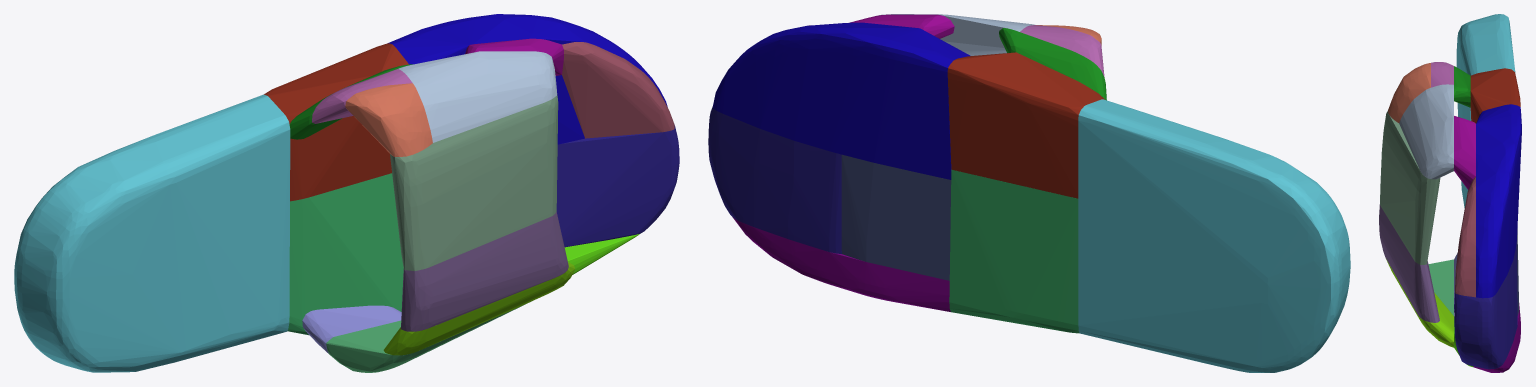
The model's file is coacd_collision.obj.
The picture shows the model from 3 angles, left to right: view 1: azimuth 30°, elevation 25°; view 2: azimuth 150°, elevation 25°; view 3: azimuth 270°, elevation 25°; orthographic projection. The views are drawn at different scales.
Visible parts, largest first — view 1: geometry_2, geometry_0, geometry_10, geometry_18, geometry_1, geometry_15, geometry_6, geometry_13, geometry_5, geometry_9, geometry_4, geometry_3 (+5 smaller); view 2: geometry_2, geometry_5, geometry_10, geometry_15, geometry_18, geometry_16, geometry_11, geometry_8, geometry_6, geometry_7, geometry_14; view 3: geometry_5, geometry_0, geometry_18, geometry_6, geometry_2, geometry_1, geometry_15, geometry_13, geometry_14, geometry_9, geometry_3, geometry_4 (+4 smaller).
Boxes of the visible parts, left/top/right/bottom form: geometry_2: left=14, top=94, right=290, bottom=372; geometry_0: left=390, top=94, right=558, bottom=271; geometry_10: left=288, top=173, right=403, bottom=335; geometry_18: left=556, top=125, right=679, bottom=247; geometry_1: left=401, top=212, right=568, bottom=331; geometry_15: left=264, top=43, right=408, bottom=201; geometry_6: left=398, top=51, right=557, bottom=142; geometry_13: left=562, top=42, right=674, bottom=138; geometry_5: left=387, top=14, right=667, bottom=144; geometry_9: left=345, top=83, right=432, bottom=156; geometry_4: left=383, top=262, right=574, bottom=355; geometry_3: left=326, top=303, right=527, bottom=372; geometry_2: left=1078, top=99, right=1350, bottom=372; geometry_5: left=713, top=22, right=970, bottom=179; geometry_10: left=949, top=169, right=1079, bottom=333; geometry_15: left=947, top=52, right=1104, bottom=198; geometry_18: left=708, top=106, right=841, bottom=253; geometry_16: left=841, top=154, right=951, bottom=280; geometry_11: left=732, top=217, right=950, bottom=311; geometry_8: left=999, top=28, right=1106, bottom=100; geometry_6: left=878, top=14, right=1034, bottom=55; geometry_7: left=1020, top=25, right=1104, bottom=77; geometry_14: left=849, top=14, right=954, bottom=38; geometry_5: left=1476, top=104, right=1521, bottom=298; geometry_0: left=1380, top=111, right=1440, bottom=264; geometry_18: left=1454, top=245, right=1517, bottom=369; geometry_6: left=1399, top=84, right=1453, bottom=179; geometry_2: left=1456, top=14, right=1515, bottom=207; geometry_1: left=1379, top=204, right=1439, bottom=322; geometry_15: left=1470, top=68, right=1520, bottom=123; geometry_13: left=1455, top=177, right=1475, bottom=297; geometry_14: left=1454, top=116, right=1475, bottom=189; geometry_9: left=1388, top=63, right=1430, bottom=122; geometry_3: left=1428, top=259, right=1453, bottom=315; geometry_4: left=1386, top=259, right=1453, bottom=347.
Size of the model in its own units: 251 by 106 by 60.99.
